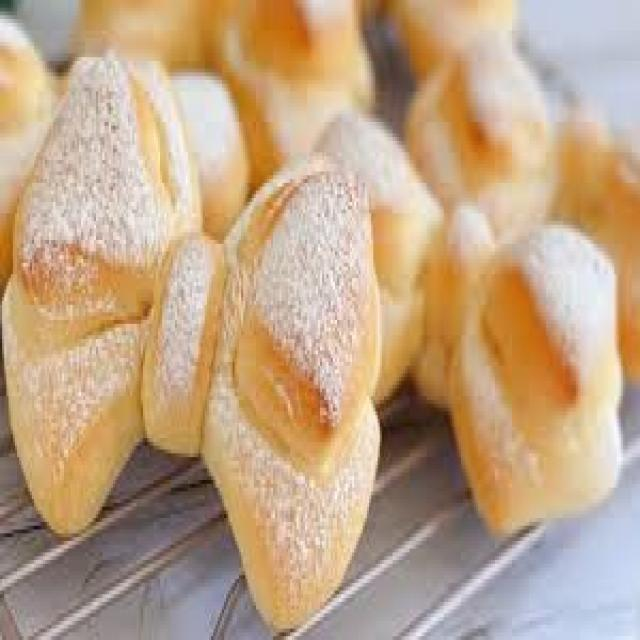organic waste: (0, 46, 380, 628), (301, 95, 623, 537), (403, 34, 638, 377), (0, 11, 247, 289), (70, 0, 373, 194), (354, 0, 512, 72)
